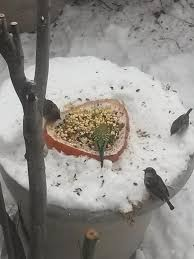budgie: (92, 123, 113, 170)
